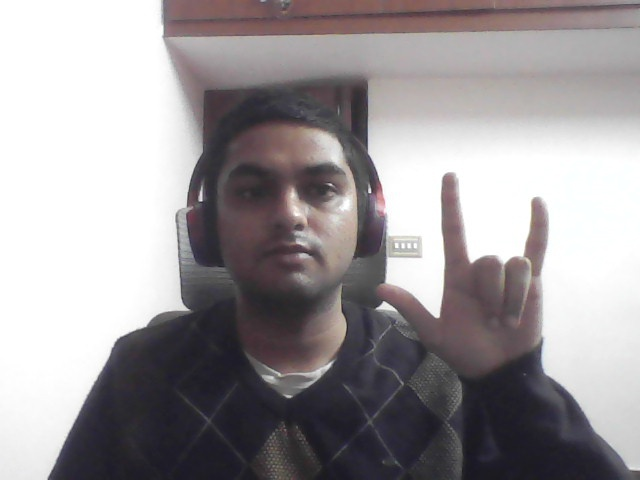I Love You: (370, 161, 571, 387)
